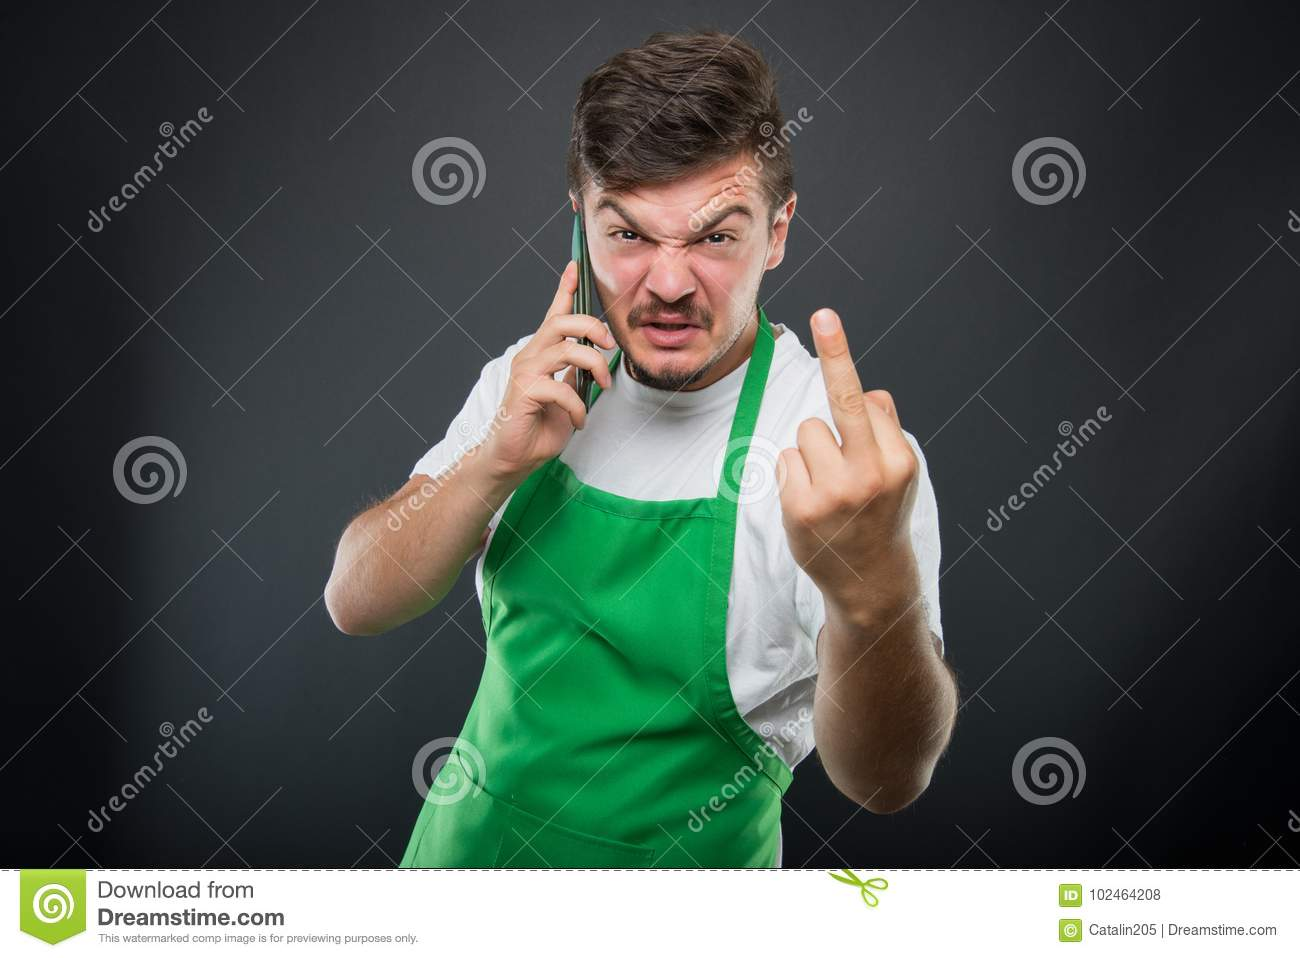phone: (558, 200, 600, 427)
talk: (495, 189, 763, 511)
